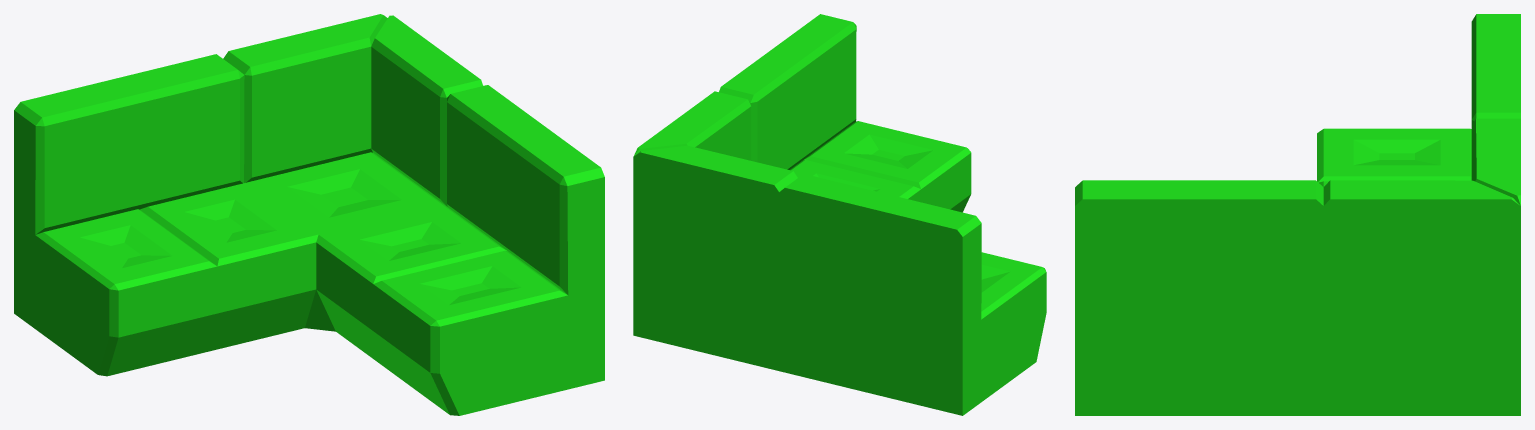
The model's file is Chair_10_Corner.fbx.
3 renders of one model, left to right at view 1: azimuth 30°, elevation 25°; view 2: azimuth 150°, elevation 25°; view 3: azimuth 270°, elevation 25°, orthographic. The views are drawn at different scales.
Visible parts, largest first — view 1: Chair_10_Corner; view 2: Chair_10_Corner; view 3: Chair_10_Corner.
Boxes of the visible parts, x1,y1,x2,y2 form: Chair_10_Corner: (14, 14, 604, 415); Chair_10_Corner: (633, 14, 1046, 415); Chair_10_Corner: (1075, 14, 1520, 415).
Size of the model in its own units: 164 by 87.99 by 164.
